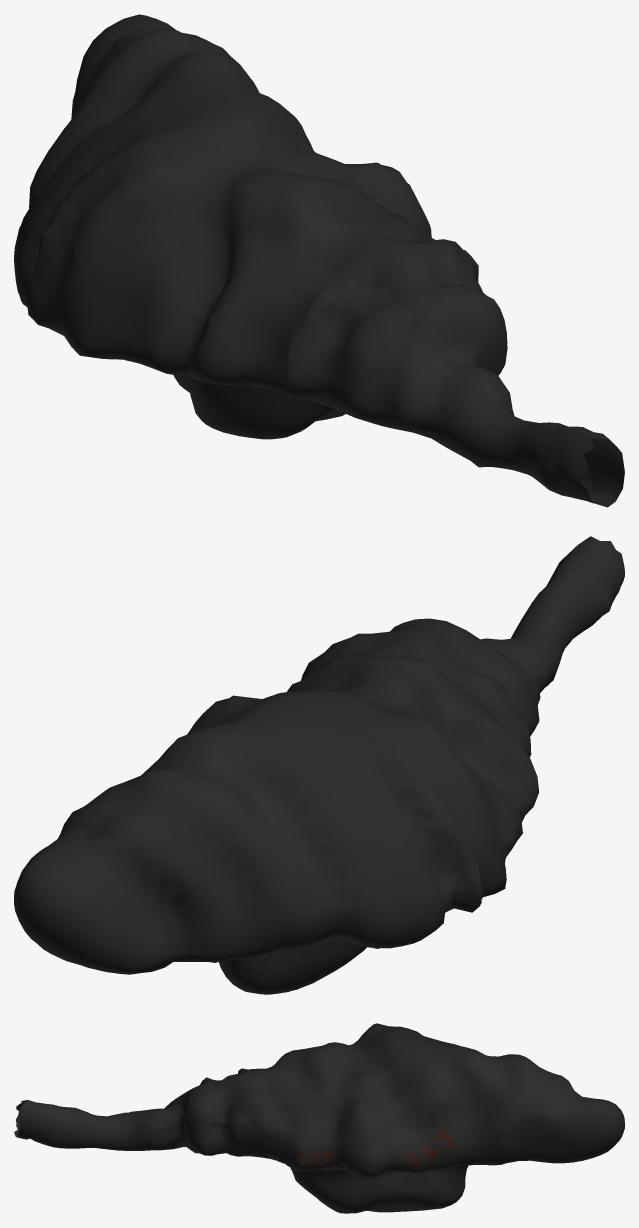
File: BustiCave.fbx
3 views of the same model, one above another, from view 1: azimuth 30°, elevation 25°; view 2: azimuth 150°, elevation 25°; view 3: azimuth 270°, elevation 25° (orthographic). The views are drawn at different scales.
Visible parts, largest first — view 1: Cave; view 2: Cave; view 3: Cave.
Part boxes in pixels (x1,y1,x2,y2): Cave: (14, 14, 624, 507); Cave: (14, 536, 624, 994); Cave: (14, 1023, 624, 1213).
Size of the model in its own units: 5776 by 4504 by 14996.
Materials: 1 (1 with a texture image).
